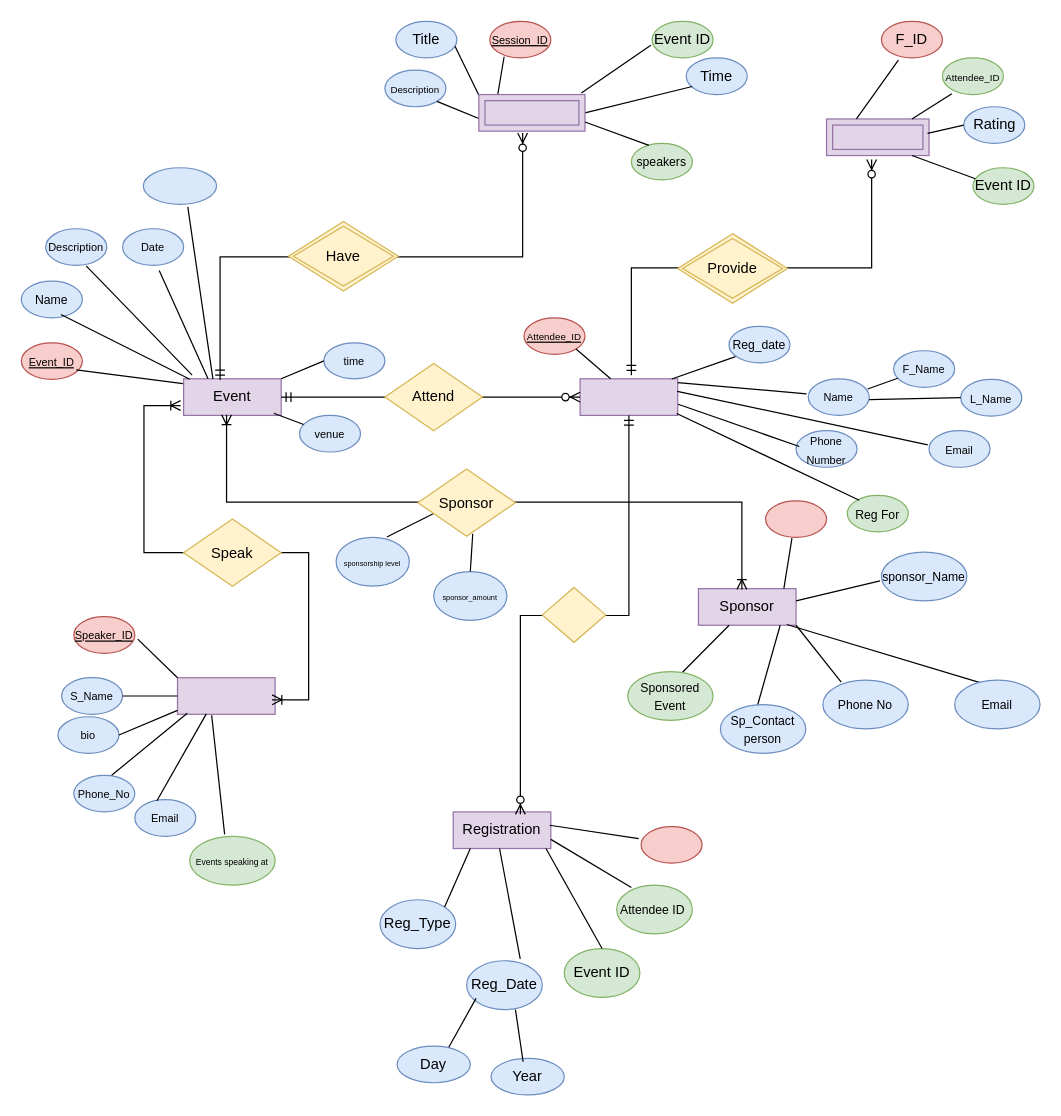
Image size: 1061x1116. Some labels were removed from this diagram. The shapes that lost their labels are listed below. From the top down, each one's centre as x and y in pixels, then its label:
At point 531,112: "Session".
At point 877,137: "Feedback".
At point 179,185: "Maximum Capacity".
At point 628,396: "Attendee".
At point 795,518: "Sponsor_ID".
At point 573,614: "can".
At point 225,695: "Speaker".
At point 671,844: "Reg_ID".
